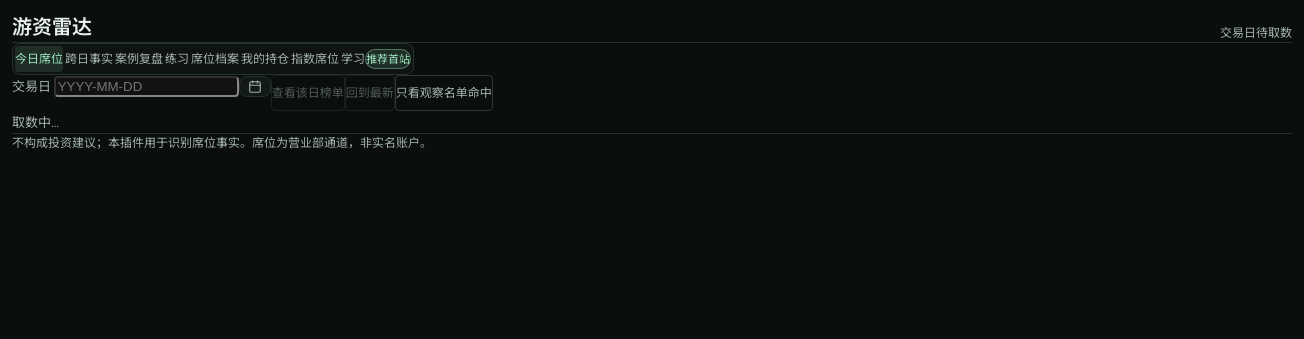
Test case: YouziPage · 案例复盘页签（Y3-07） › 预算截短 → 提示被截短并说明保留的是最近部分
Click the button titled "按证券代码与日期区间查看披露事件时间线" at x=139, y=59, box [115,46,163,72]
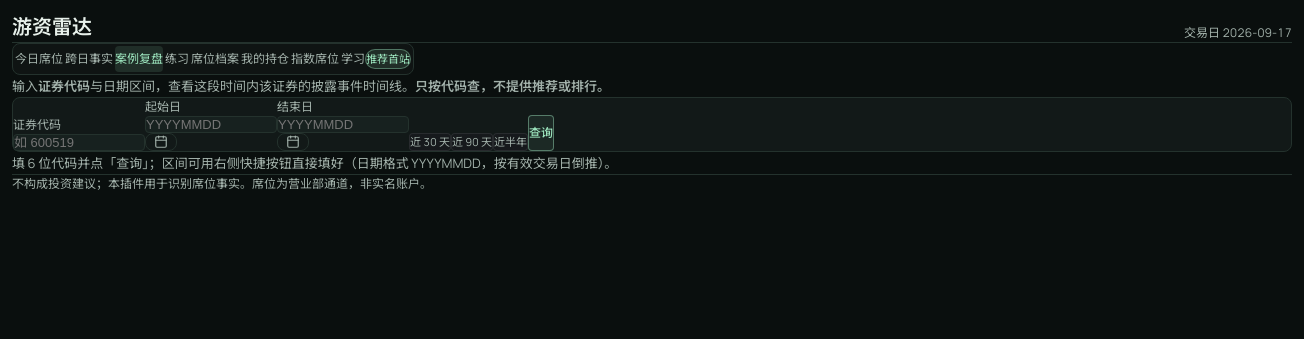
expect the button "查询" is shown: met, box [528,115,554,151]
Type "600519" into the field with placeholder "如 600519" at x=79, y=143, box [13,134,145,151]
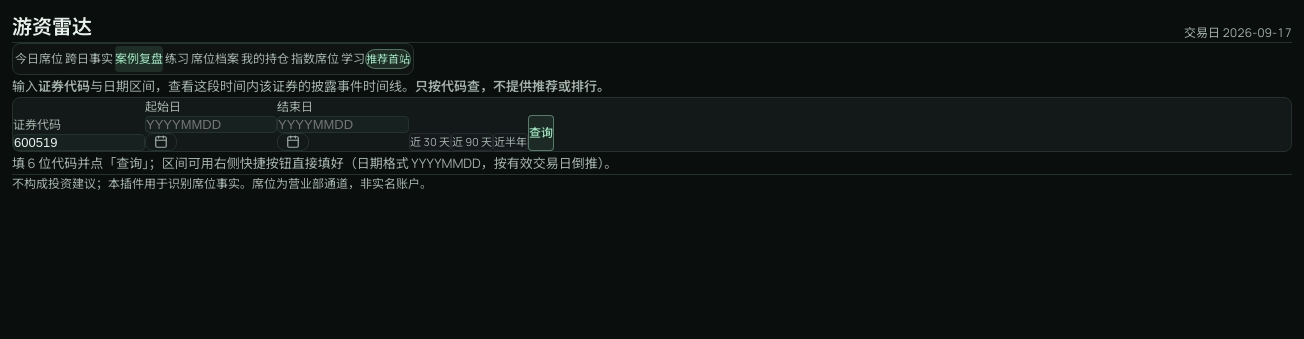
Type "20260907" into the field with placeholder "YYYYMMDD" at x=211, y=125, box [145,116,277,133]
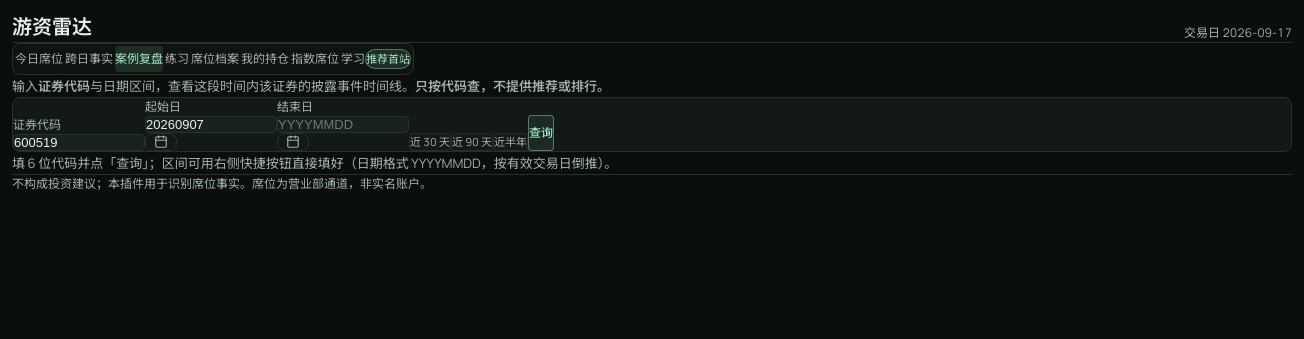
Type "20260917" into the field with placeholder "YYYYMMDD" at x=343, y=125, box [277,116,409,133]
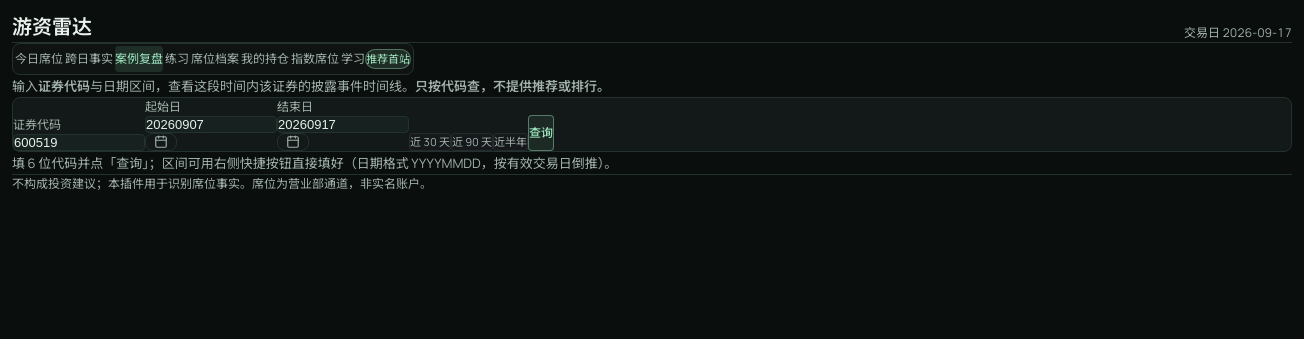
Click the button "查询" at x=541, y=133, box [528,115,554,151]
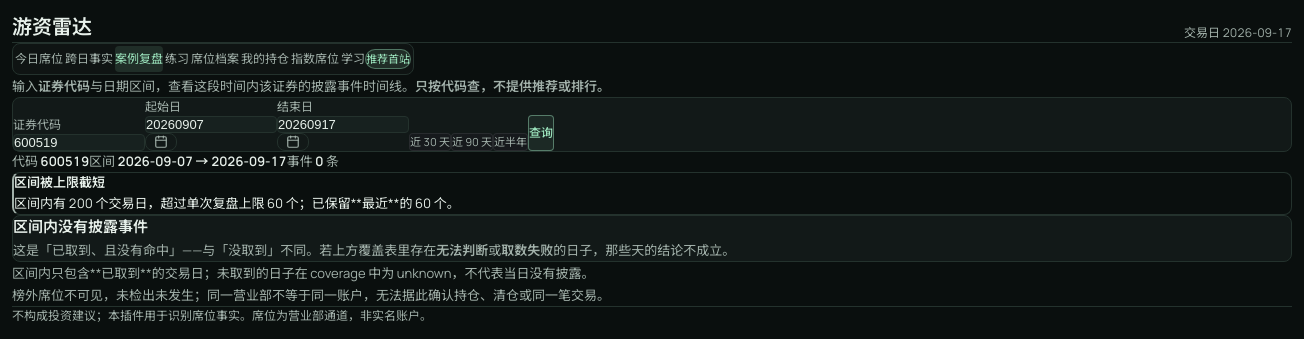
expect the text "区间被上限截短" is shown: met, box [14,173,105,192]
expect the text "区间内有 200 个交易日，超过单次复盘上限 60 个；已保留**最近**的 60 个。" is shown: met, box [14,192,460,214]
